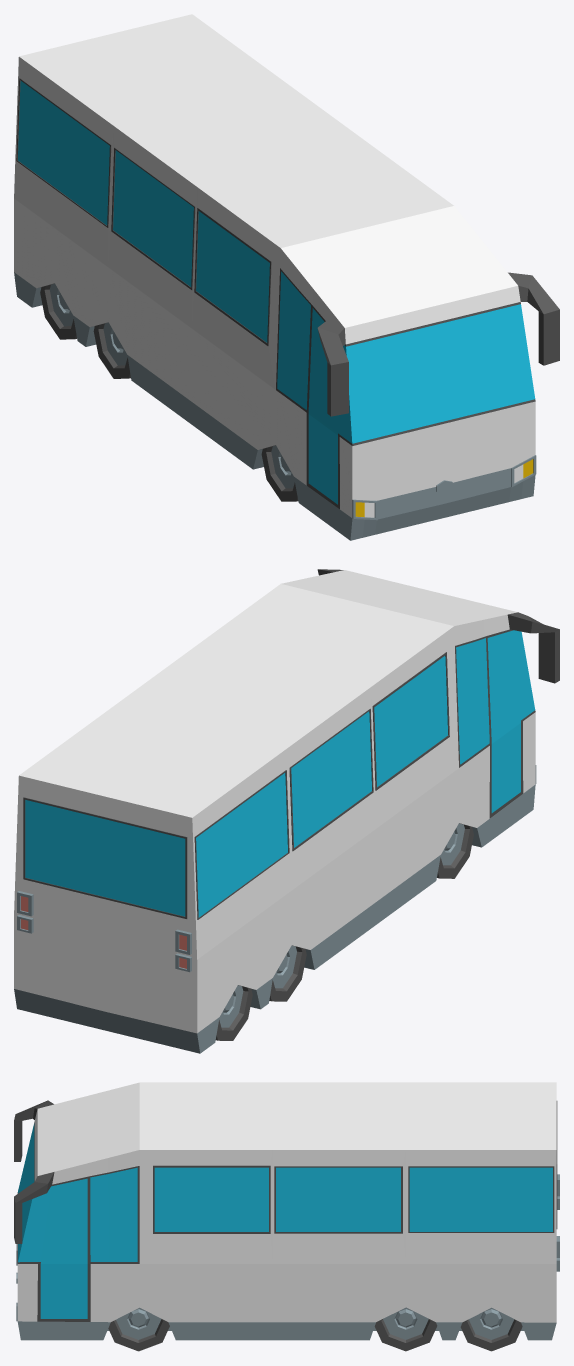
Rendered from nganya.glb.
The picture shows the model from 3 angles, top to bottom: view 1: azimuth 30°, elevation 25°; view 2: azimuth 150°, elevation 25°; view 3: azimuth 270°, elevation 25°; orthographic projection. The views are drawn at different scales.
Parts seen in each view (by area): view 1: bus_Cube.027; view 2: bus_Cube.027; view 3: bus_Cube.027.
Part boxes in pixels (x1,y1,x2,y2): bus_Cube.027: (14,14,559,540); bus_Cube.027: (14,569,559,1053); bus_Cube.027: (14,1082,559,1351).
Size of the model in its own units: 9.16 by 9.68 by 23.75.
